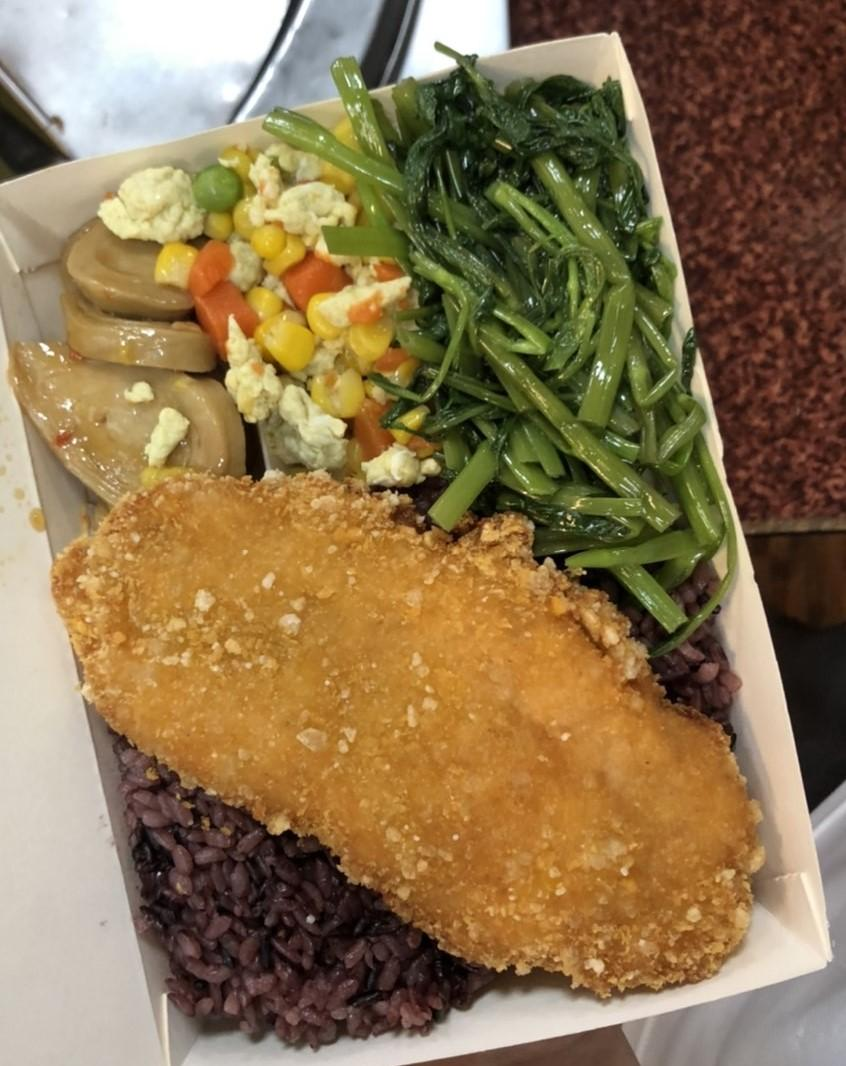big grilled chicken leg: (0, 23, 846, 1066)
braised fish: (108, 540, 734, 1053)
braised fish fillet: (350, 76, 700, 607), (212, 123, 402, 477), (20, 186, 246, 481)
braised pork: (66, 456, 772, 999)
